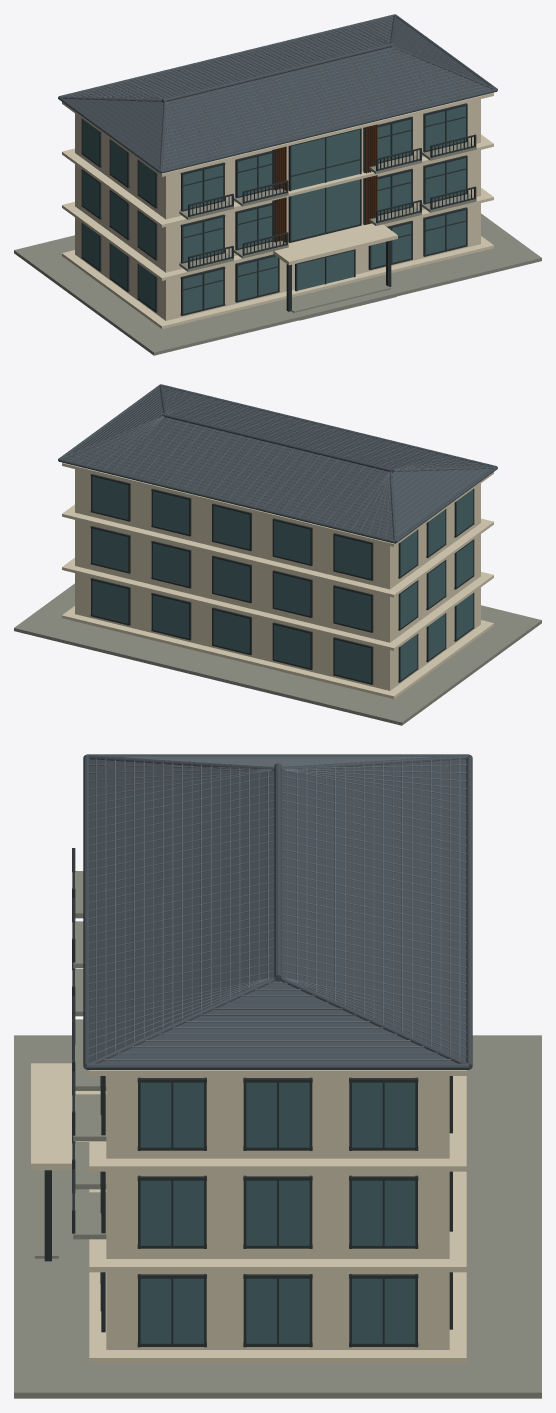
File: H02-proposal-v1-LOD0.glb
3 renders of one model, top to bottom at view 1: azimuth 30°, elevation 25°; view 2: azimuth 150°, elevation 25°; view 3: azimuth 270°, elevation 25°, orthographic. The views are drawn at different scales.
Parts seen in each view (by area): view 1: H02_proposed_exterior_LOD0; view 2: H02_proposed_exterior_LOD0; view 3: H02_proposed_exterior_LOD0.
Part boxes in pixels (x1,y1,x2,y2): H02_proposed_exterior_LOD0: (14,14,541,355); H02_proposed_exterior_LOD0: (14,384,541,725); H02_proposed_exterior_LOD0: (14,754,541,1398).
Size of the model in its own units: 32 by 14.7 by 20.
